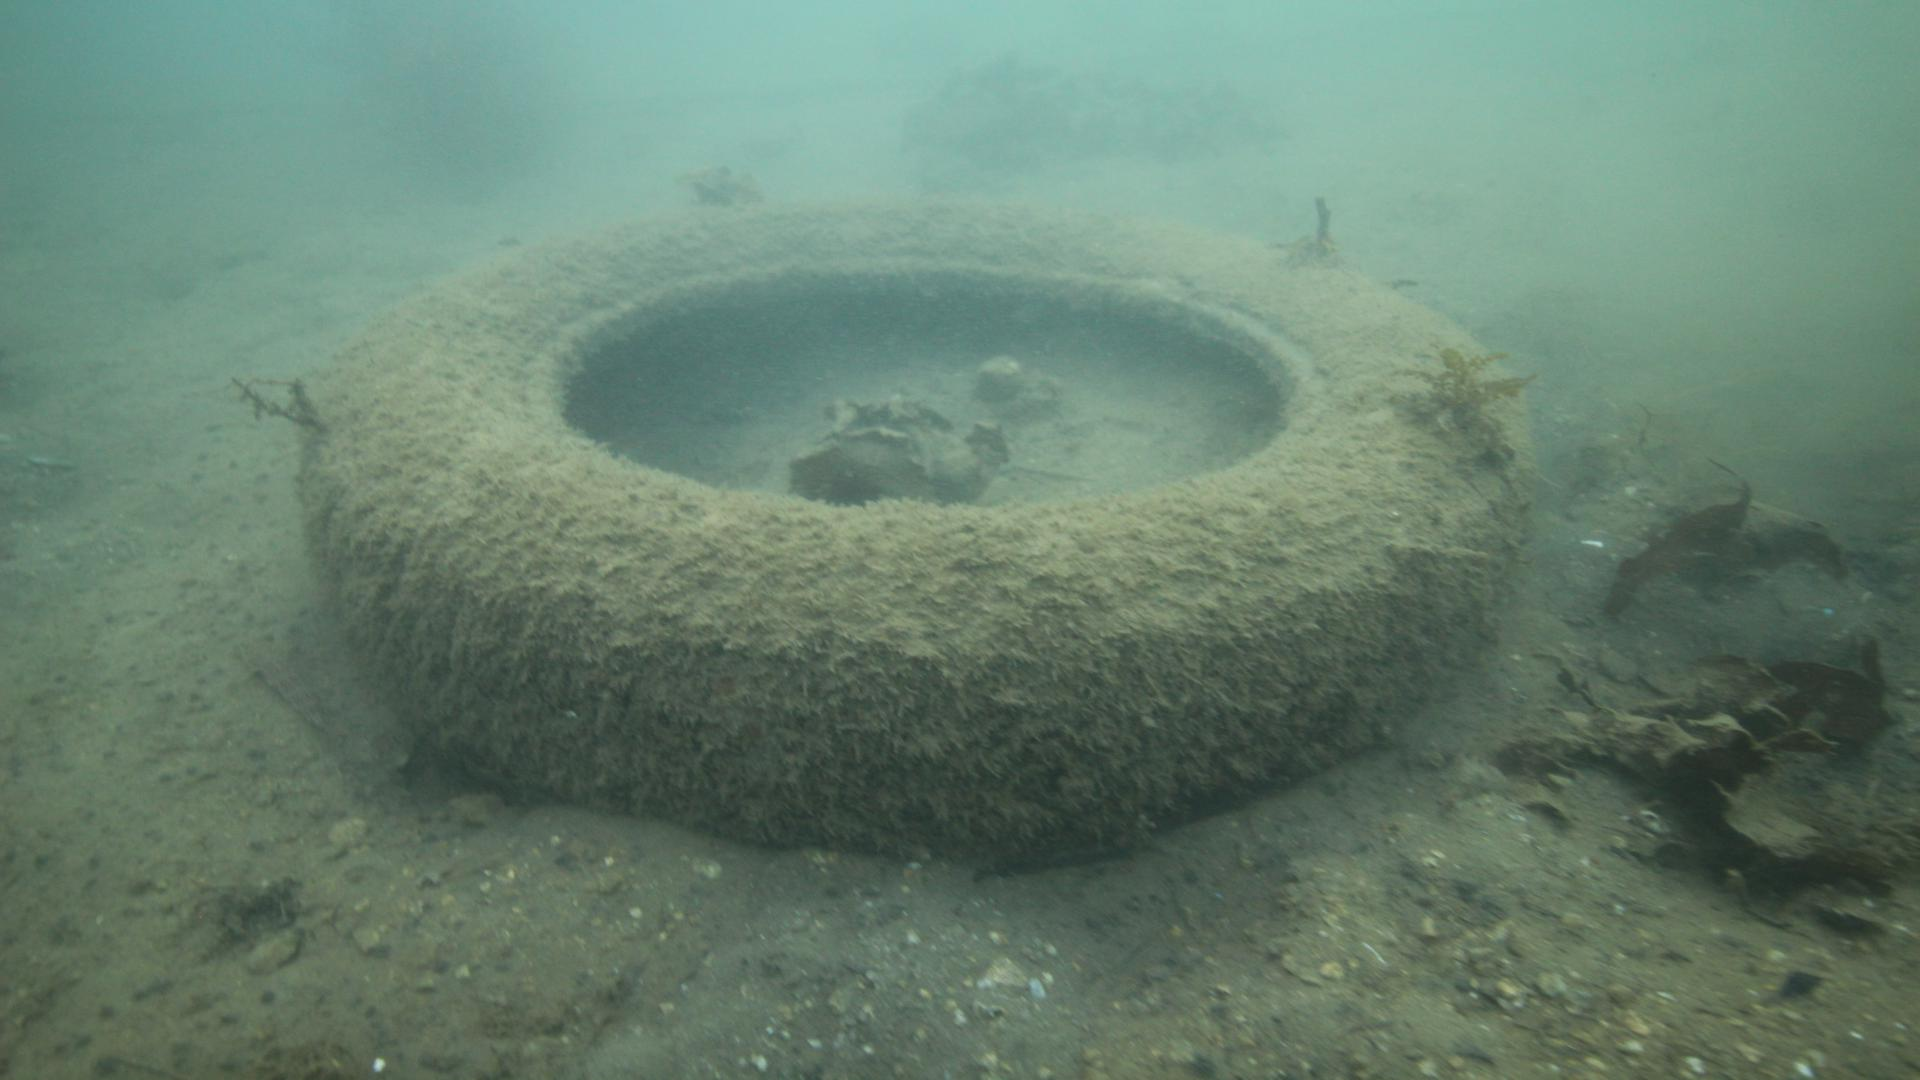tire: (301, 194, 1535, 876)
